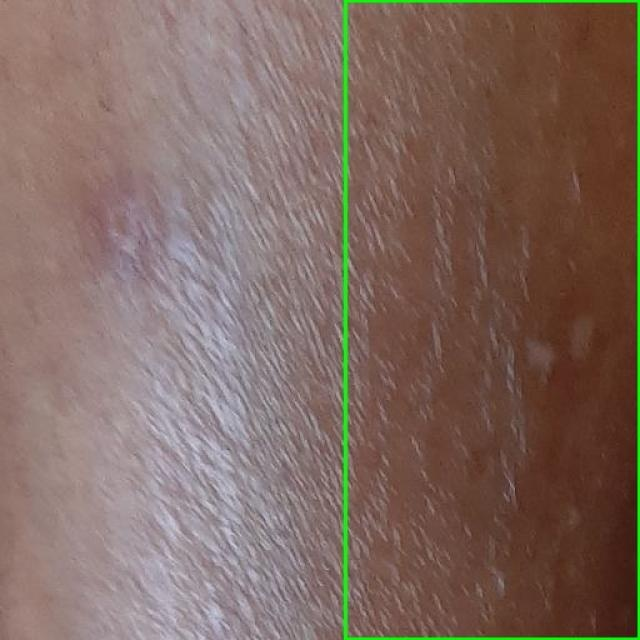Seborrheic Dermatitis: (345, 0, 639, 639)
